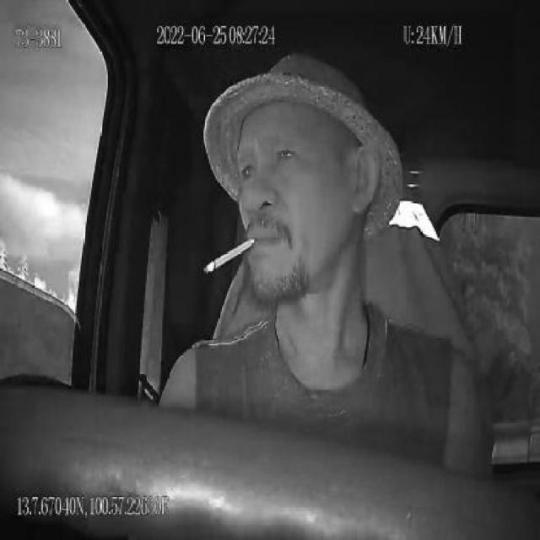smoking: (205, 235, 260, 275)
